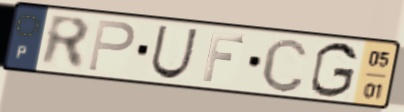C: (259, 36, 311, 95)
F: (200, 30, 248, 84)
G: (307, 40, 360, 100)
P: (85, 17, 138, 74)
R: (39, 12, 93, 73)
U: (147, 23, 201, 81)
